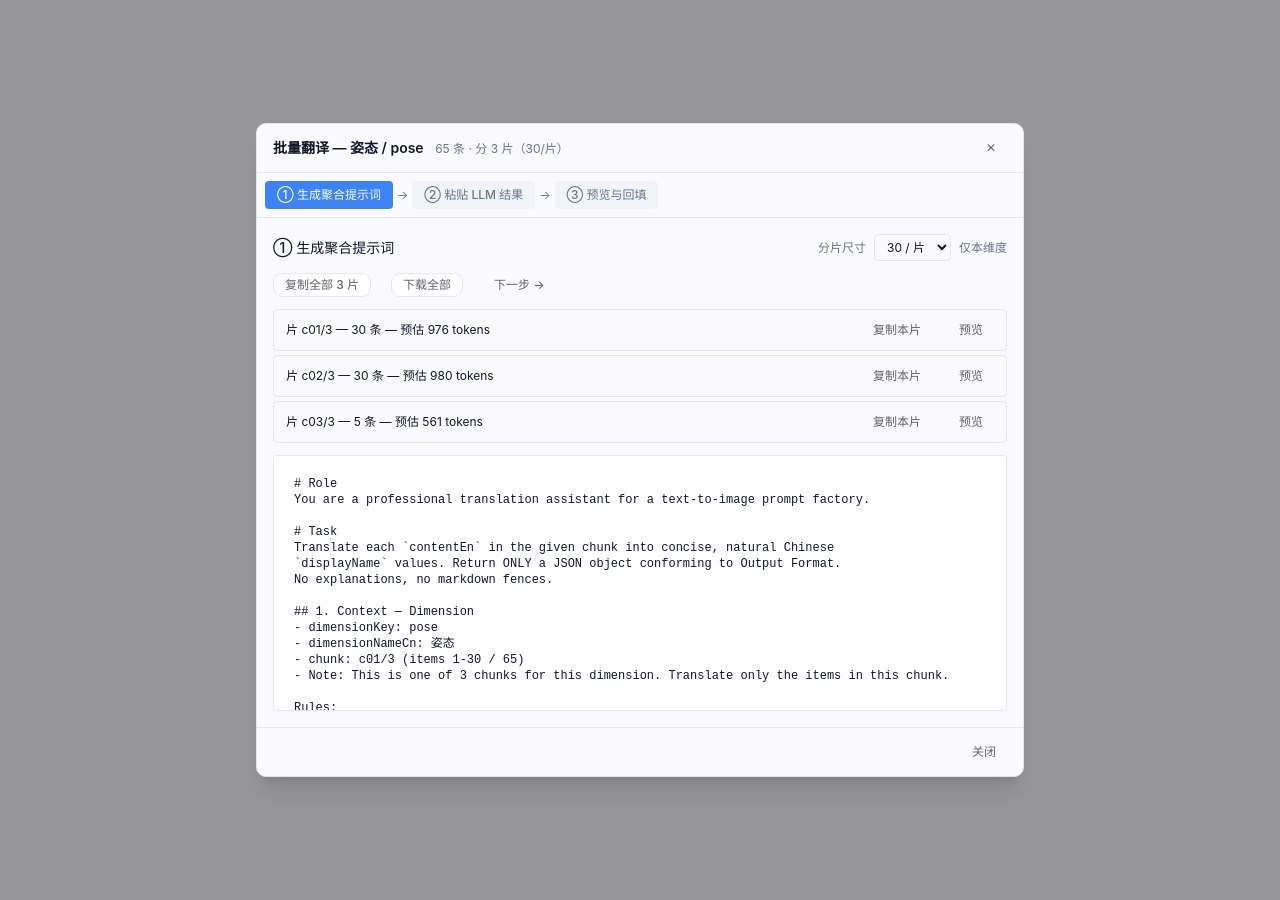
Test case: Need01 — 维度批量翻译 › DimensionTranslateDialog 三步：分片 65 条 30/片 → 3 片，切 50 即时重算
expect the element with test id "translate-step-1" is shown: met, box [273,234,1007,711]
expect the button with test id "translate-copy-all" shows "3 片": met, box [273,273,371,297]
switch to 50
Select "50 / 片" in the dropdown with test id "translate-chunk-size". click: x=912, y=248
box: [874,234,951,261]
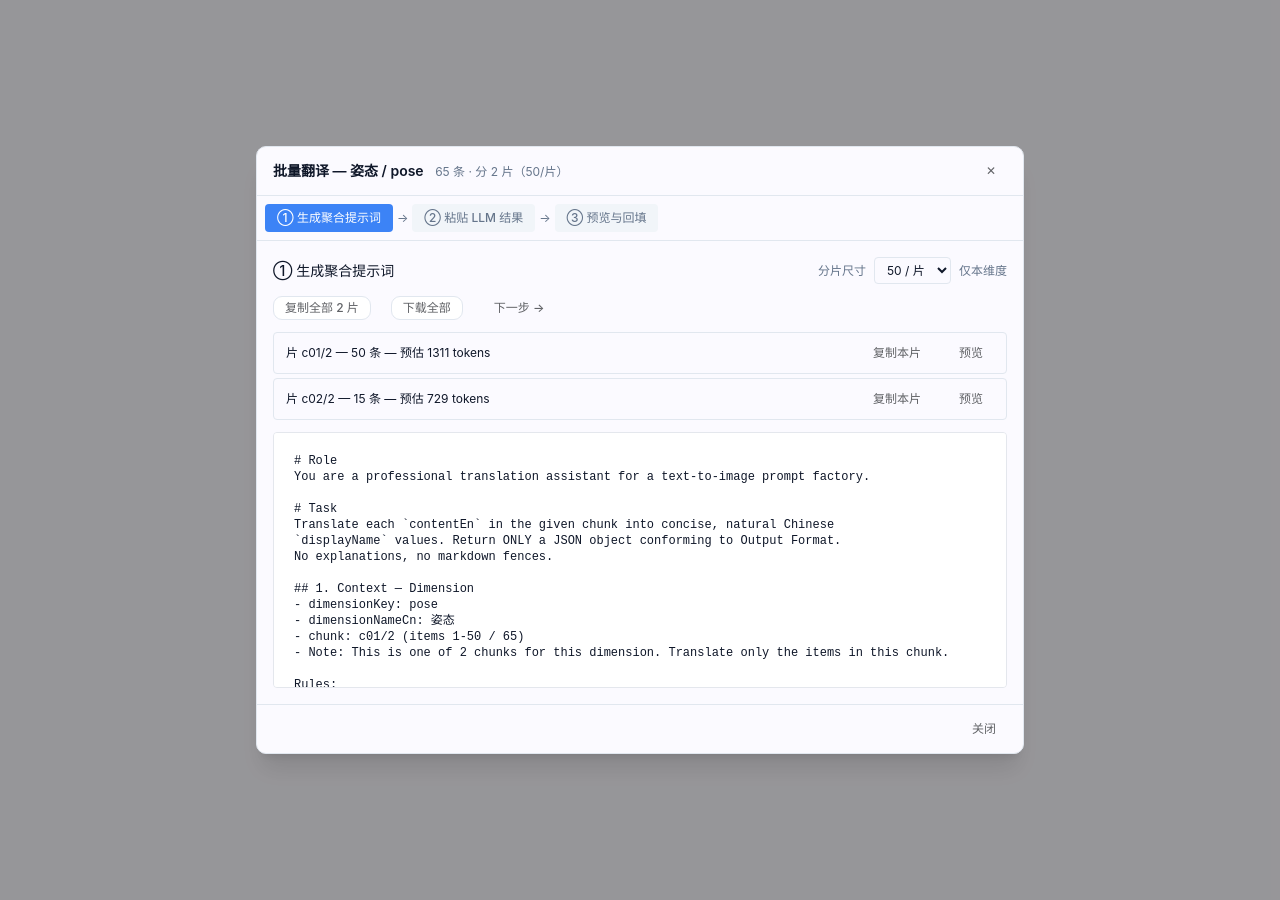
expect the button with test id "translate-copy-all" shows "2 片": met, box [273,296,371,320]
